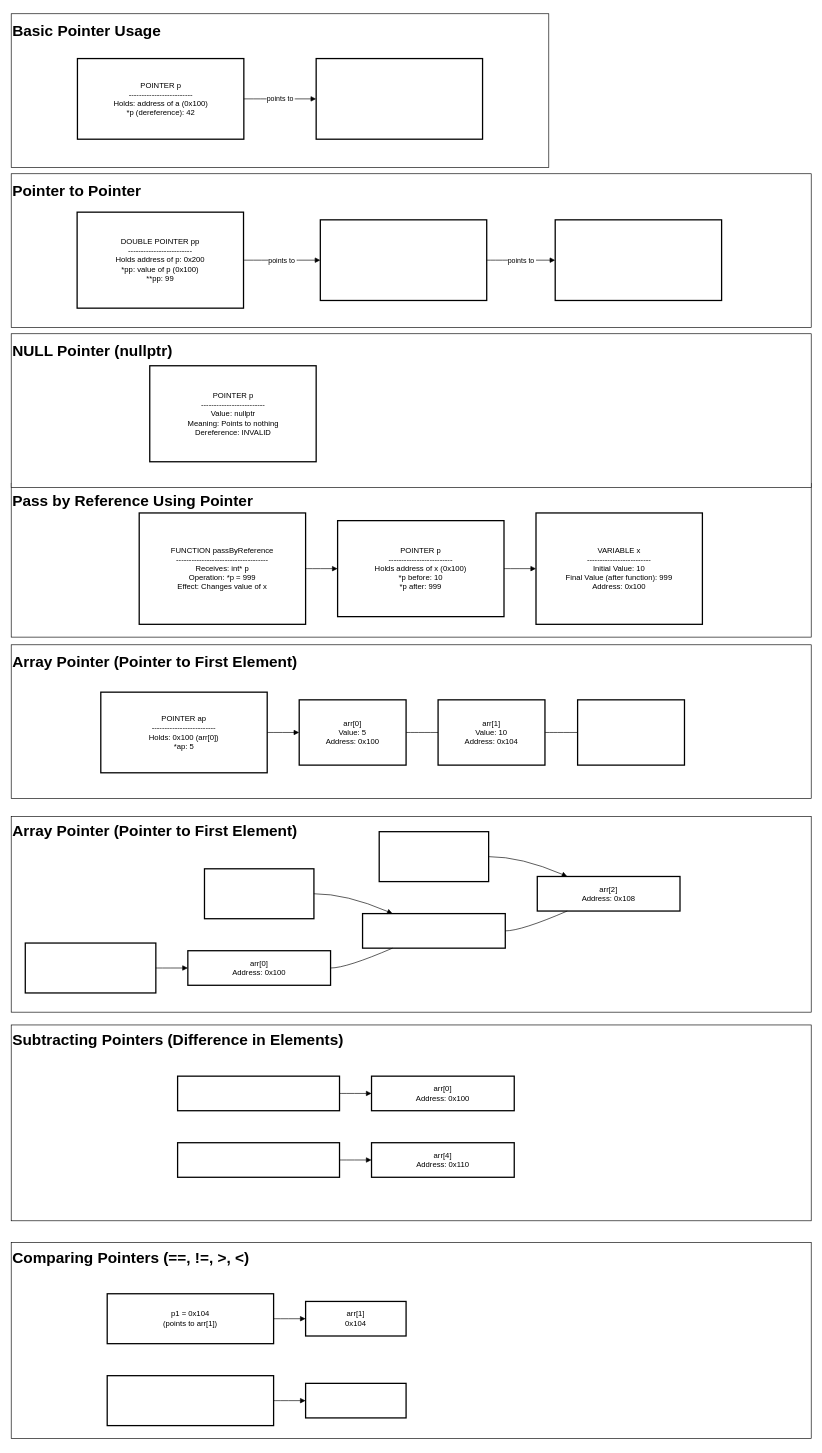
Image size: 822x1453. Some labels were removed from this diagram. The shapes that lost their labels are listed below. From the top down, each one's centre as x and y in pixels, then its label:
At (x=399, y=99): "VARIABLE a ------------------------- Value: 42 Address: 0x100".
At (x=403, y=260): "POINTER p ------------------------- Holds address of a: 0x100 *p: 99".
At (x=638, y=260): "VARIABLE a ------------------------- Value: 99 Address: 0x100".
At (x=631, y=732): "arr[2] Value: 15 Address: 0x108".
At (x=433, y=856): "ap + 2 → 0x108 Points to arr[2]".
At (x=259, y=893): "ap + 1 → 0x104 Points to arr[1]".
At (x=434, y=930): "arr[1] Address: 0x104".
At (x=90, y=967): "ap initially → 0x100 Points to arr[0]".
At (x=258, y=1093): "p2 = &arr[0] Value: 0x100".
At (x=258, y=1160): "p1 = &arr[4] Value: 0x110".
At (x=190, y=1400): "p2 = 0x100 (points to arr[0])".
At (x=355, y=1400): "arr[0] 0x100".
